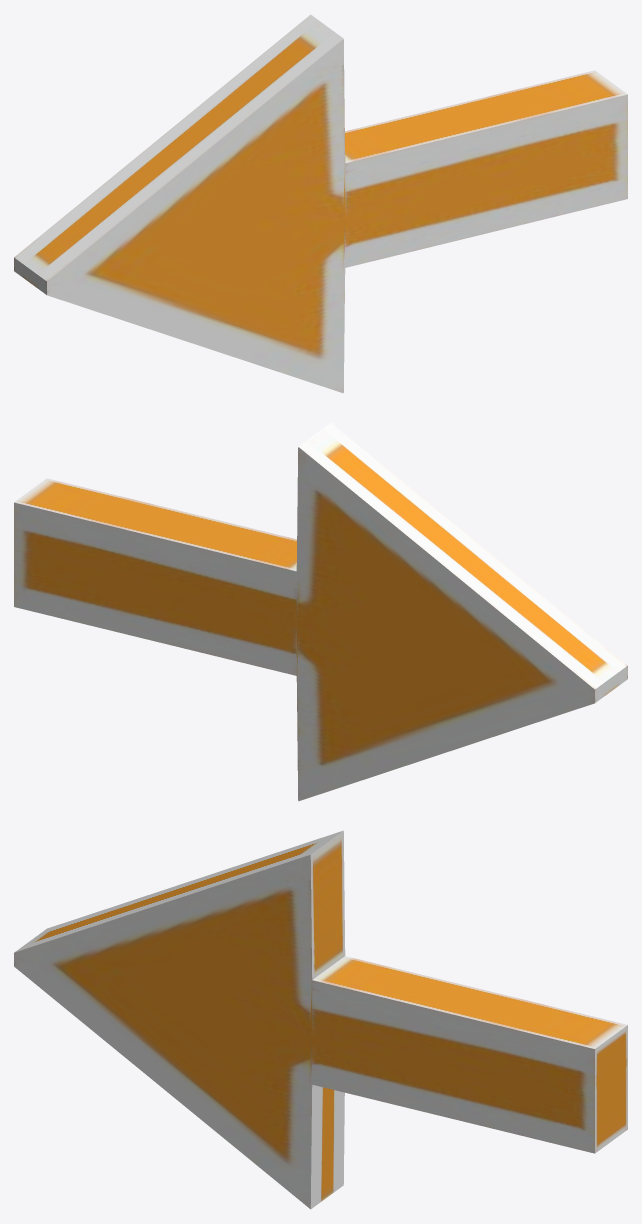
The model's file is ArrowL.gltf.
3 views of the same model, one above another, from view 1: azimuth 30°, elevation 25°; view 2: azimuth 150°, elevation 25°; view 3: azimuth 330°, elevation 25° (orthographic).
Parts seen in each view (by area): view 1: Cube; view 2: Cube; view 3: Cube.
Boxes of the visible parts, left/top/right/bottom form: Cube: left=14, top=14, right=627, bottom=393; Cube: left=14, top=422, right=627, bottom=801; Cube: left=14, top=830, right=627, bottom=1209.
Bounding box in the file's own units: 4.78 × 2.79 × 0.4712.
Materials: 1 (1 with a texture image).
